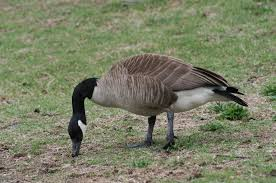goose: (66, 52, 250, 163)
